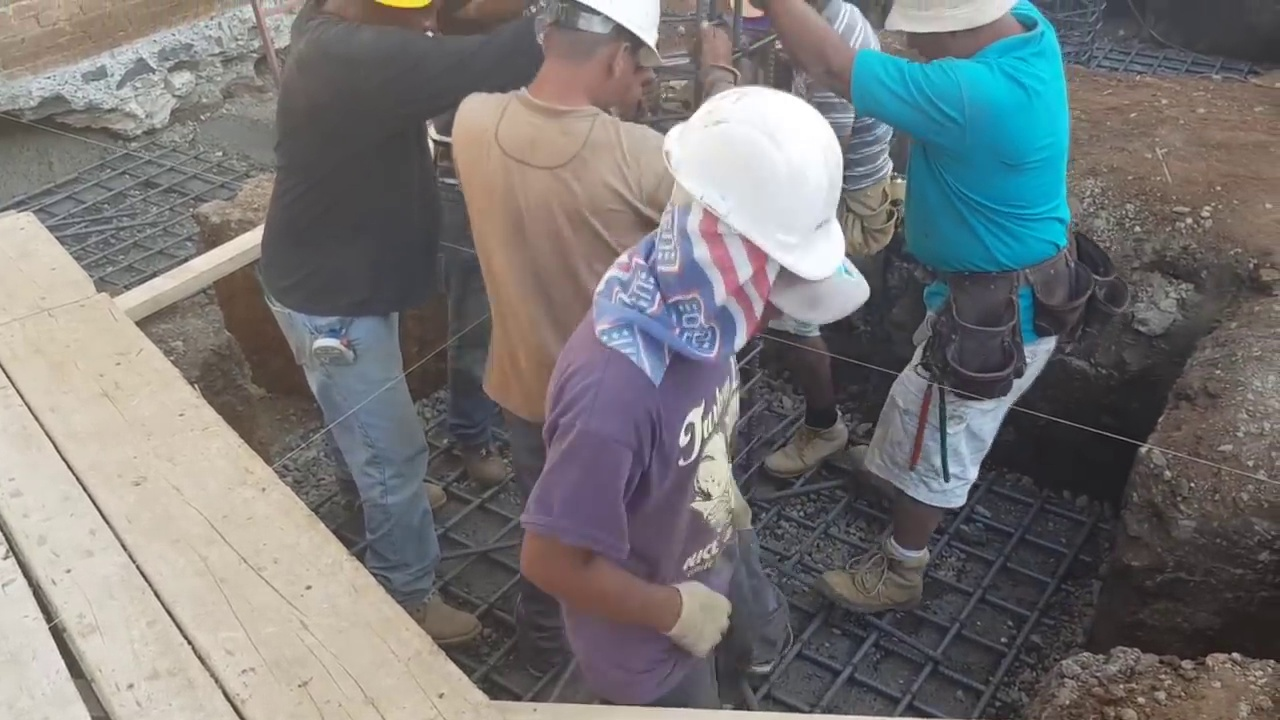helmet: (668, 84, 846, 277), (534, 2, 668, 70)
helmet-off: (868, 3, 1029, 63)
helmet-on: (640, 88, 847, 338), (511, 2, 670, 115)
person: (512, 86, 863, 689), (809, 0, 1081, 608), (257, 0, 473, 653), (450, 0, 679, 444)
